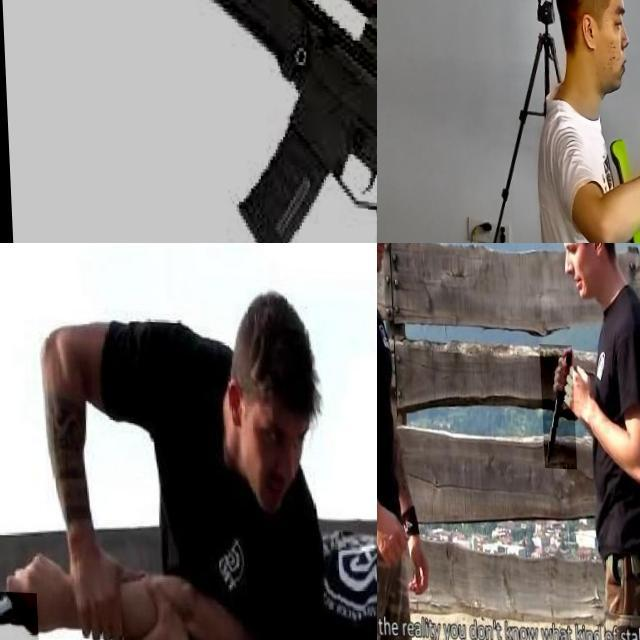-: (537, 341, 573, 466), (0, 589, 49, 640)
gun-knife-thesis - v11 Yolov5 augmented: (0, 0, 377, 243)
